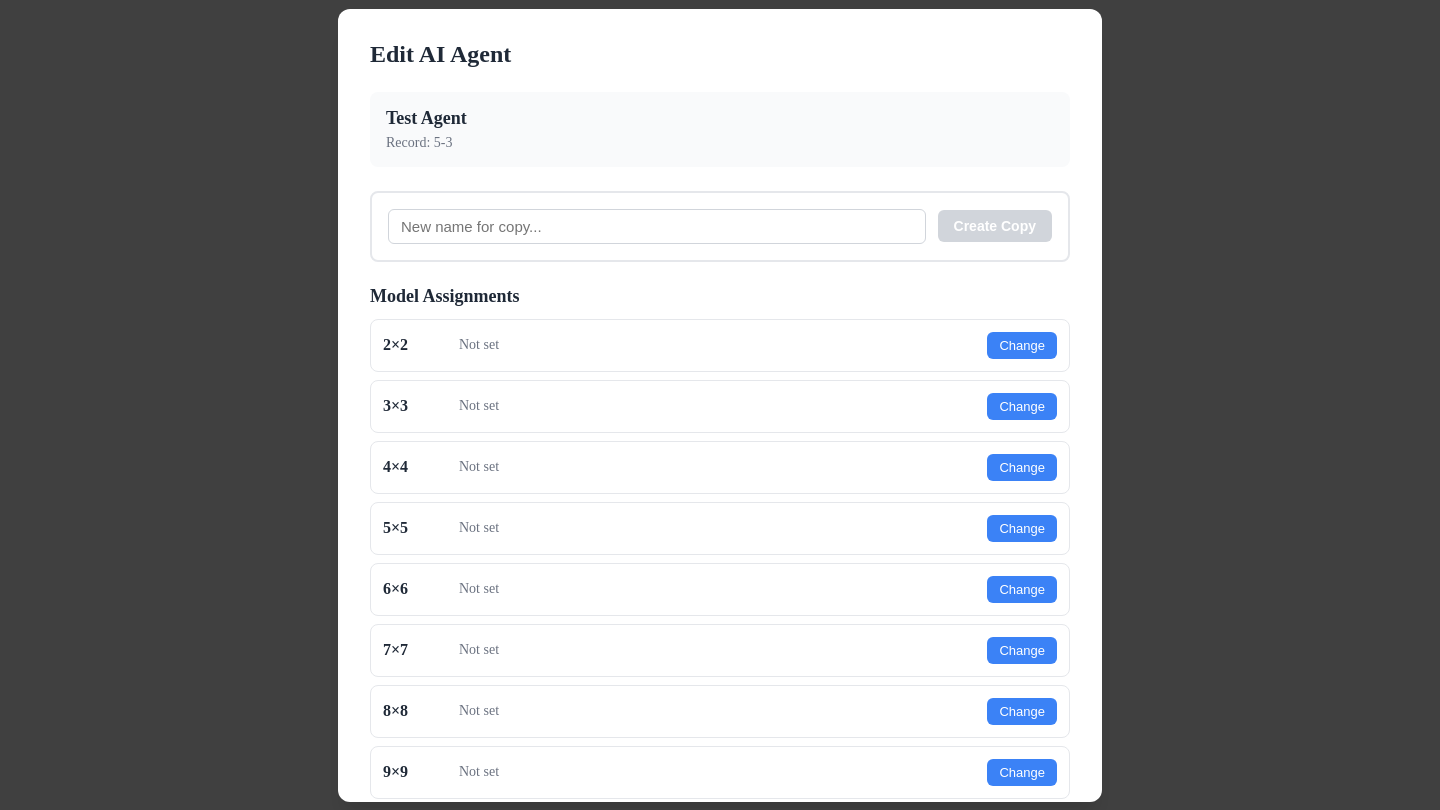
Test: EditAiAgentModal › should open model selector when Change button is clicked
// Click Change for 3×3 (index 1, since 2×2 is index 0)
Click the button "Change" in the row of "3×3" at (1022, 406), box x1=988 y1=392 x2=1057 y2=420
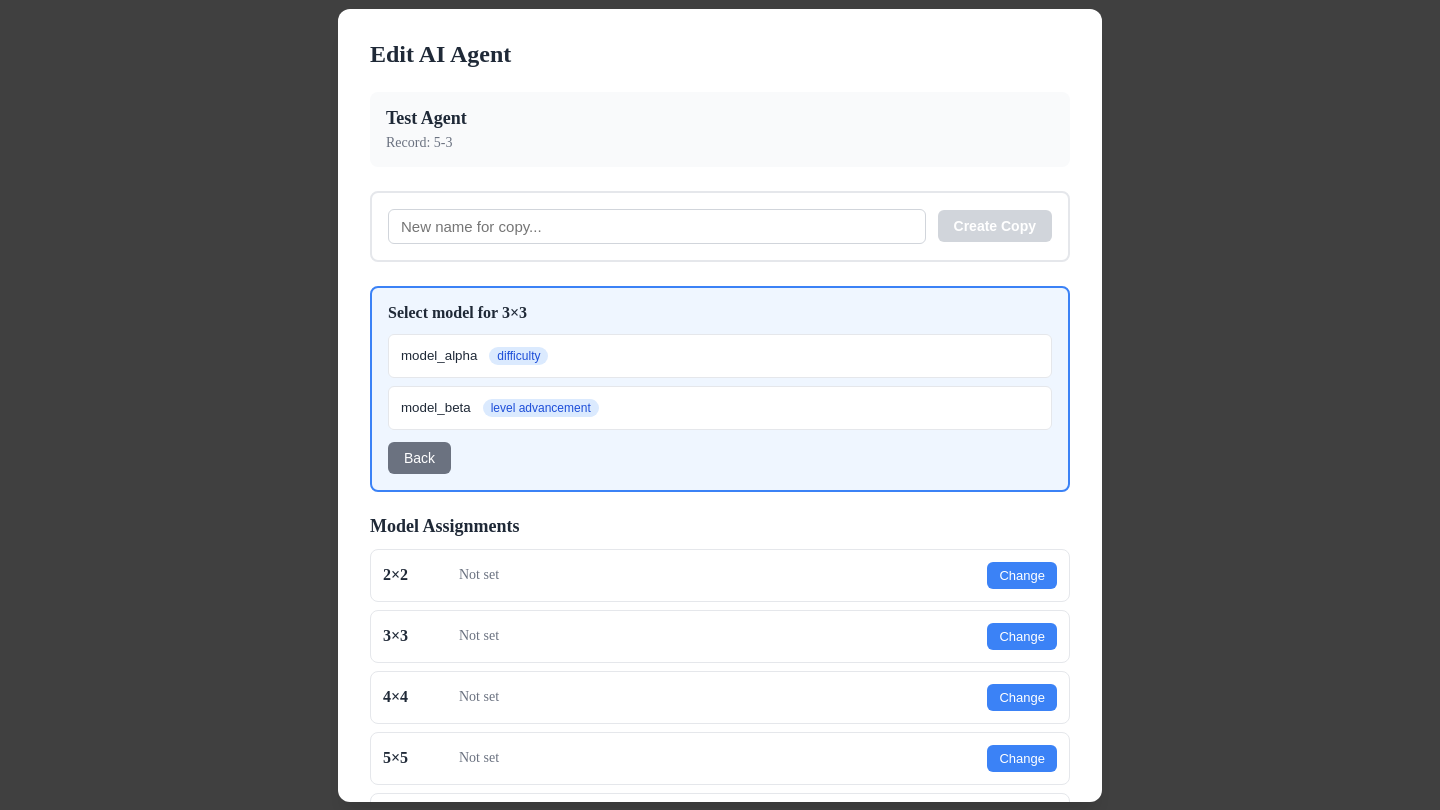
Now the heading "Select model for 3×3" is shown, box x1=388 y1=304 x2=527 y2=320
Now the text "model_alpha" is shown, box x1=401 y1=348 x2=477 y2=363
Now the text "model_beta" is shown, box x1=401 y1=400 x2=471 y2=415
